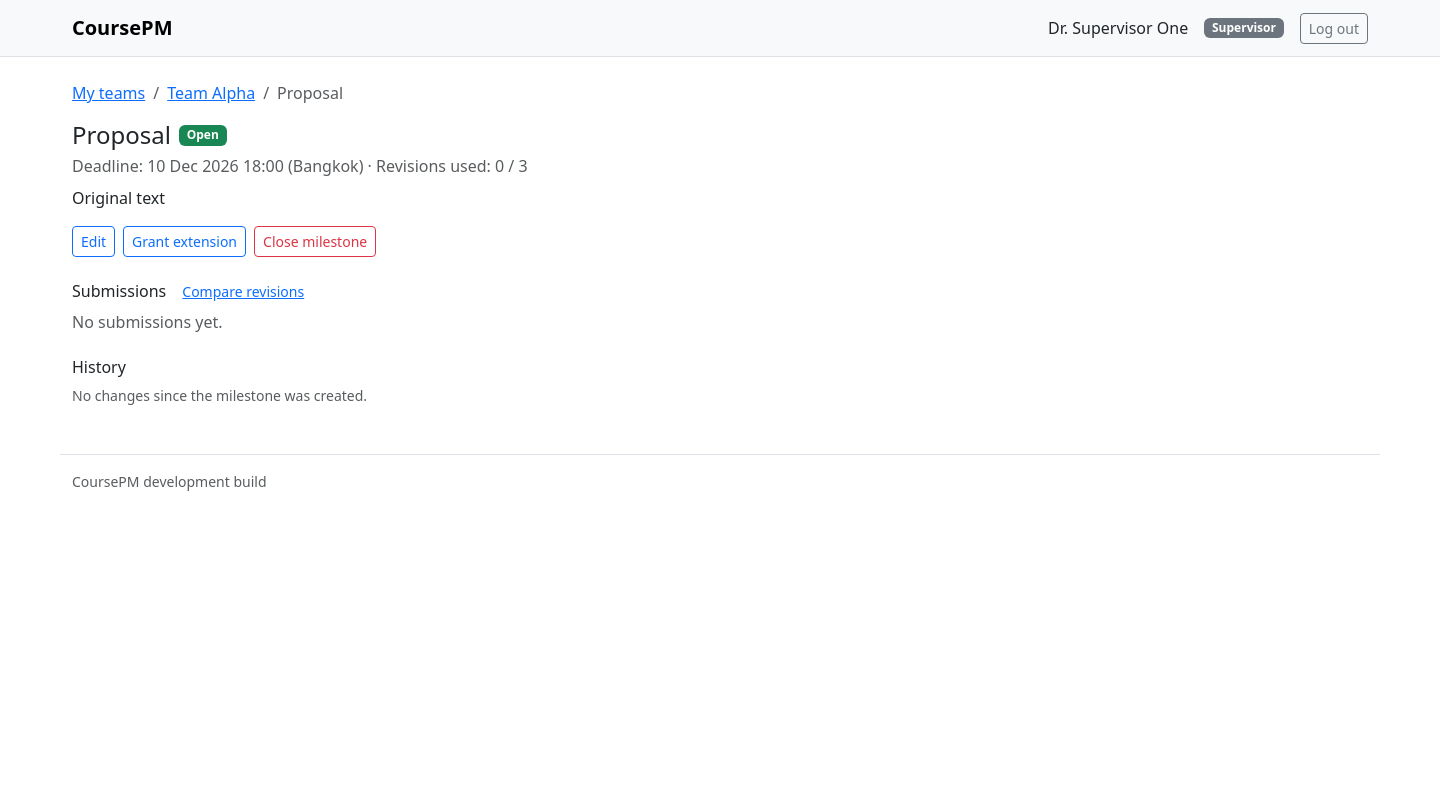
Scenario: TEST-UI-08 (AC-08-12): forms and errors › an edit 400 shows each message under its field and keeps the typed values
Click the button "Edit": (94, 241) x1=72 y1=226 x2=115 y2=257
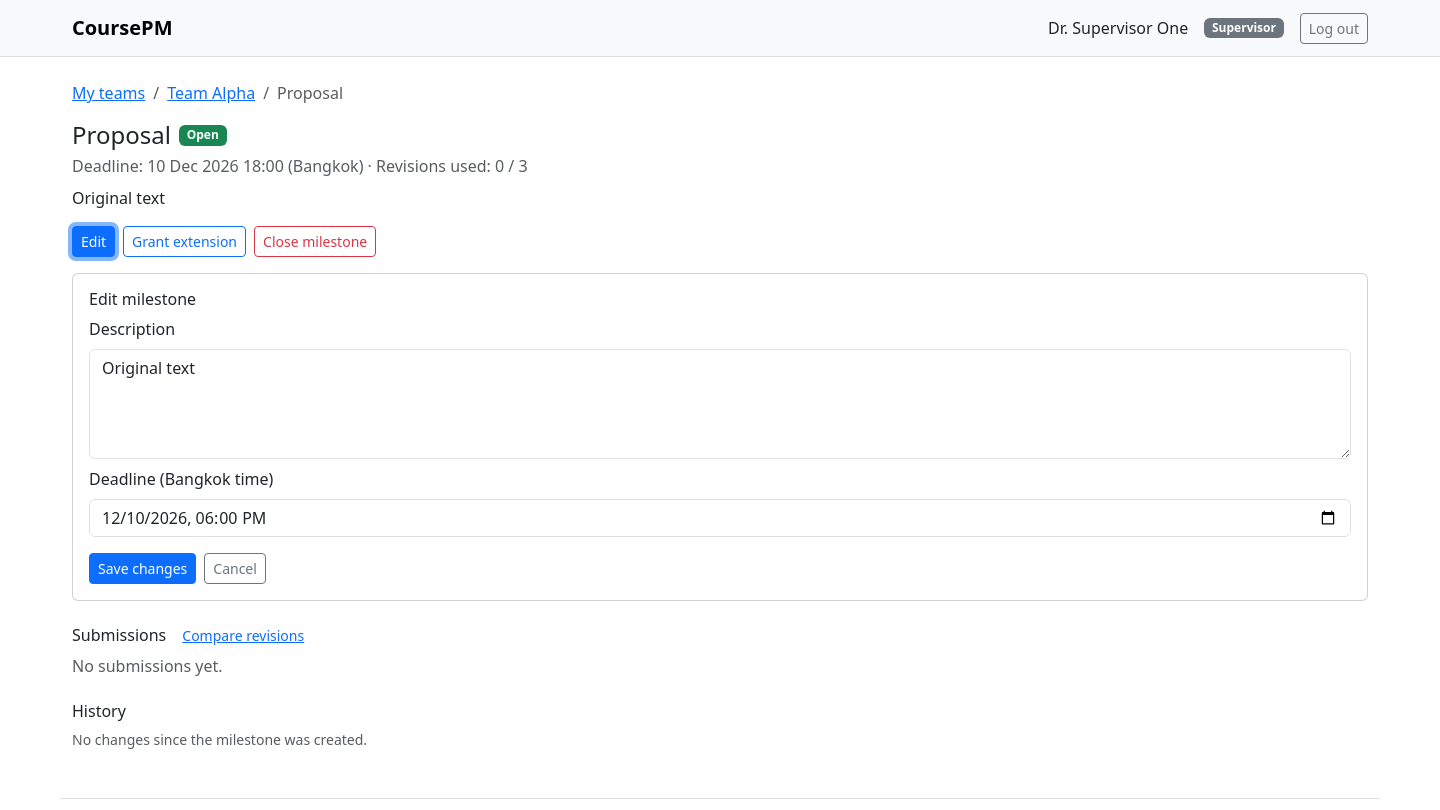
Expected: the text box labelled "Description" holds "Original text"
Expected: the field labelled "Deadline (Bangkok time)" holds "2026-12-10T18:00", x1=89 y1=499 x2=1351 y2=537
Replace the text in the text box labelled "Description" with "Typed text": (720, 404) x1=89 y1=349 x2=1351 y2=459
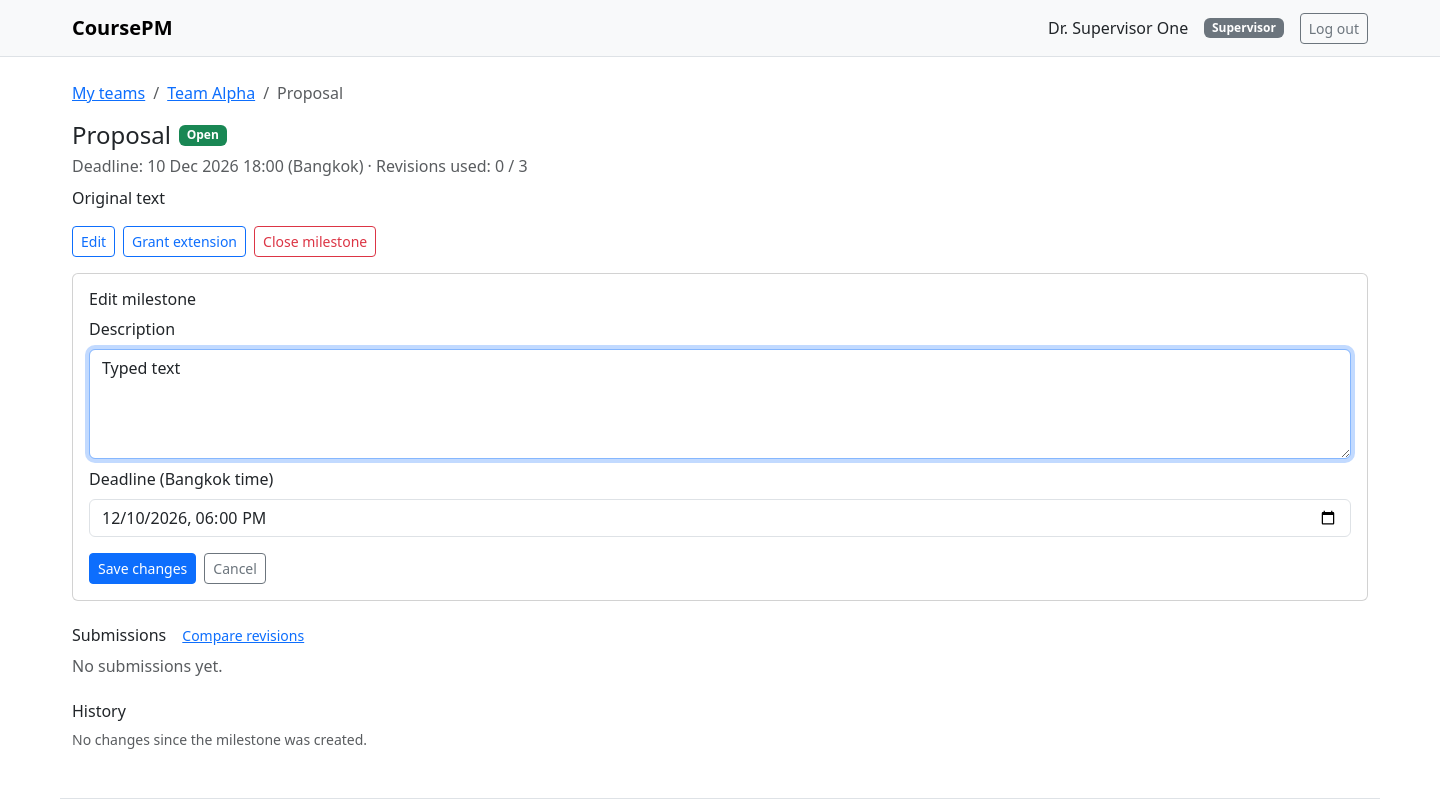
Click the button "Save changes": (143, 568) x1=89 y1=553 x2=196 y2=584
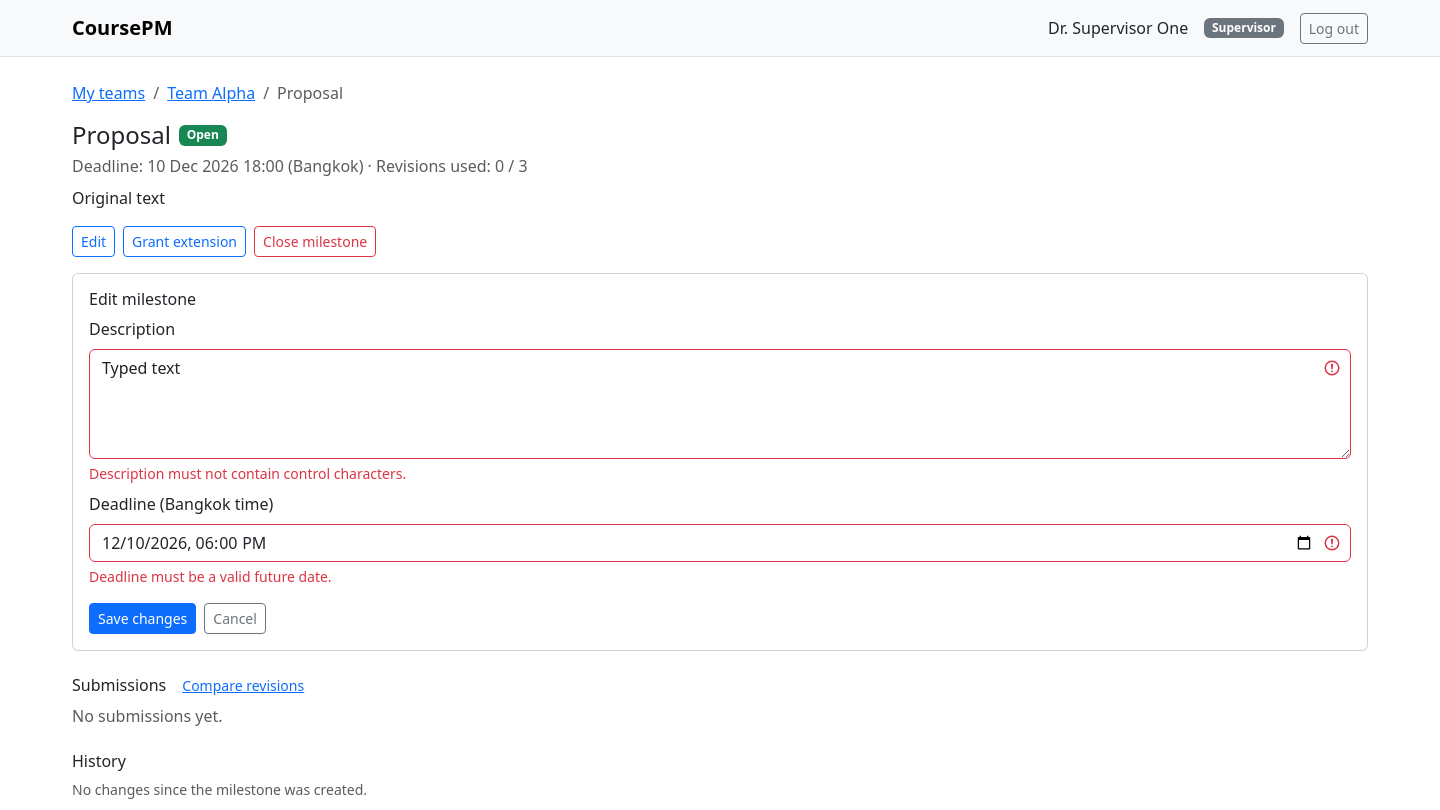
Expected: the text "Description must not contain control characters." is shown, x1=89 y1=464 x2=406 y2=483
Expected: the text "Deadline must be a valid future date." is shown, x1=89 y1=567 x2=332 y2=586
